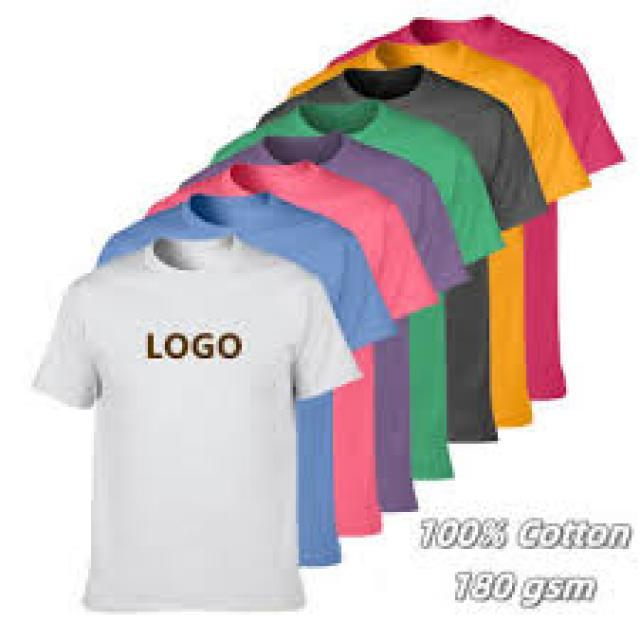Shirt: (34, 232, 333, 632), (329, 2, 612, 404), (262, 64, 538, 443), (171, 134, 440, 516), (298, 30, 559, 421), (148, 165, 416, 540), (91, 198, 365, 564), (220, 92, 474, 485)
